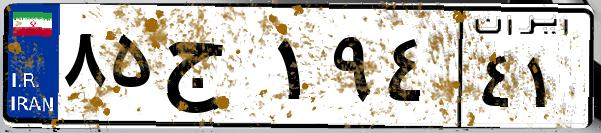1: (270, 28, 330, 110), (525, 38, 570, 115)
4: (385, 28, 445, 110), (475, 38, 525, 113)
5: (110, 28, 158, 98)
8: (57, 26, 110, 100)
9: (330, 28, 385, 110)
ج: (158, 20, 270, 120)
